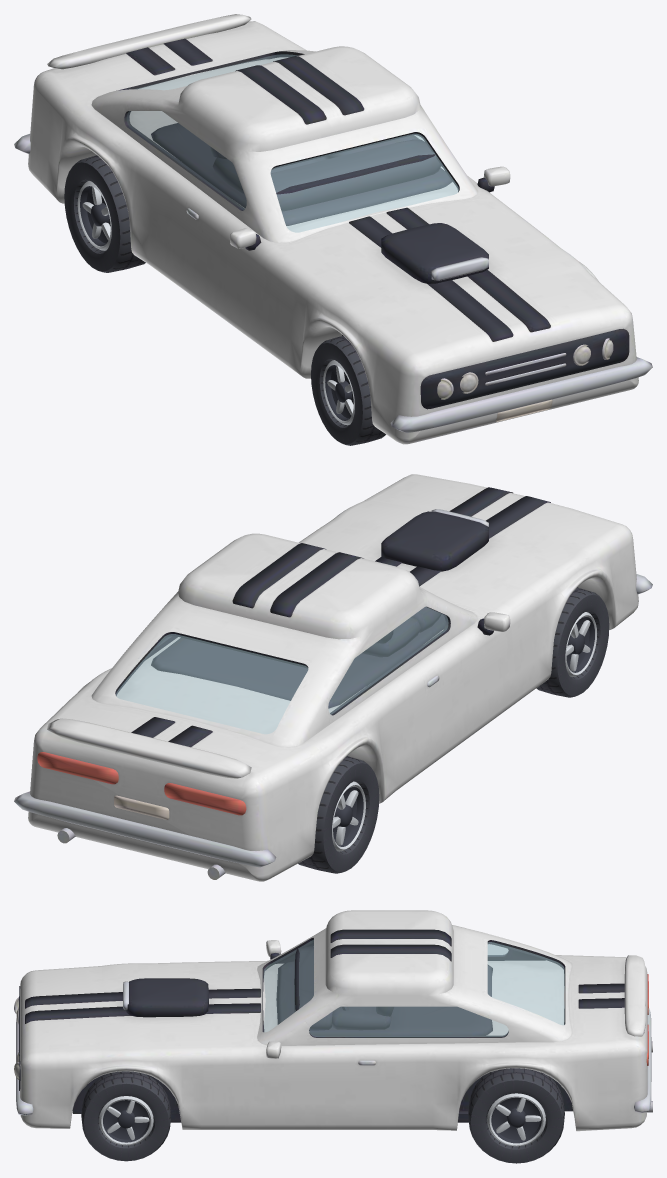
The model's file is sedan.glb.
3 renders of one model, top to bottom at view 1: azimuth 30°, elevation 25°; view 2: azimuth 150°, elevation 25°; view 3: azimuth 270°, elevation 25°, orthographic. The views are drawn at different scales.
Parts seen in each view (by area): view 1: muscle-car_body, muscle-car_windows, muscle-car_wheel_rr, muscle-car_wheel_fr; view 2: muscle-car_body, muscle-car_windows, muscle-car_wheel_rr, muscle-car_wheel_fr; view 3: muscle-car_body, muscle-car_windows, muscle-car_wheel_rl, muscle-car_wheel_fl.
Boxes of the visible parts, x1,y1,x2,y2 form: muscle-car_body: [14, 14, 652, 444]; muscle-car_windows: [127, 54, 458, 232]; muscle-car_wheel_rr: [64, 155, 145, 272]; muscle-car_wheel_fr: [311, 336, 385, 445]; muscle-car_body: [14, 474, 652, 881]; muscle-car_windows: [116, 607, 448, 733]; muscle-car_wheel_rr: [298, 756, 379, 873]; muscle-car_wheel_fr: [536, 587, 609, 697]; muscle-car_body: [14, 910, 652, 1131]; muscle-car_windows: [264, 940, 564, 1036]; muscle-car_wheel_rl: [468, 1068, 564, 1163]; muscle-car_wheel_fl: [81, 1071, 171, 1161].
Size of the model in its own units: 1.92 by 1.4 by 4.68.
6 materials, 2 textured.
